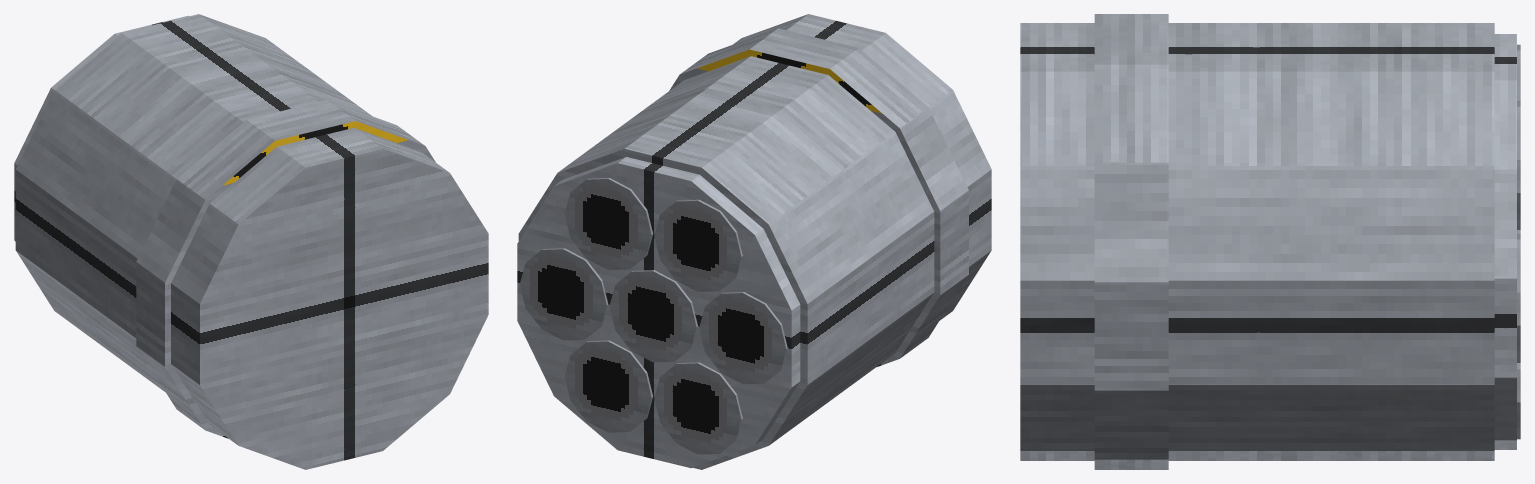
File: rack_round_kestrel.glb
3 renders of one model, left to right at view 1: azimuth 30°, elevation 25°; view 2: azimuth 150°, elevation 25°; view 3: azimuth 270°, elevation 25°, orthographic. The views are drawn at different scales.
Parts seen in each view (by area): view 1: rack, rack_band, rack_face; view 2: rack, rack_face, rack_band, rack_tube, rack_tube.005, rack_tube.004, rack_tube.006, rack_tube.003, rack_tube.001, rack_tube.002; view 3: rack, rack_band, rack_face, rack_tube.001, rack_tube.002.
Part boxes in pixels (left/top/right/bottom): rack: left=15, top=14, right=488, bottom=469; rack_band: left=136, top=100, right=435, bottom=438; rack_face: left=14, top=15, right=189, bottom=241; rack: left=518, top=14, right=991, bottom=469; rack_face: left=517, top=157, right=800, bottom=468; rack_band: left=669, top=28, right=968, bottom=366; rack_tube: left=609, top=270, right=697, bottom=362; rack_tube.005: left=654, top=362, right=742, bottom=454; rack_tube.004: left=699, top=292, right=787, bottom=384; rack_tube.006: left=564, top=340, right=653, bottom=432; rack_tube.003: left=654, top=199, right=742, bottom=291; rack_tube.001: left=519, top=248, right=608, bottom=340; rack_tube.002: left=564, top=178, right=652, bottom=269; rack: left=1020, top=23, right=1494, bottom=460; rack_band: left=1094, top=14, right=1168, bottom=469; rack_face: left=1494, top=34, right=1516, bottom=449; rack_tube.001: left=1517, top=233, right=1520, bottom=362; rack_tube.002: left=1517, top=101, right=1520, bottom=229.
Size of the model in its own units: 12.07 by 12.07 by 13.5.
Materials: 4 (4 with a texture image).
